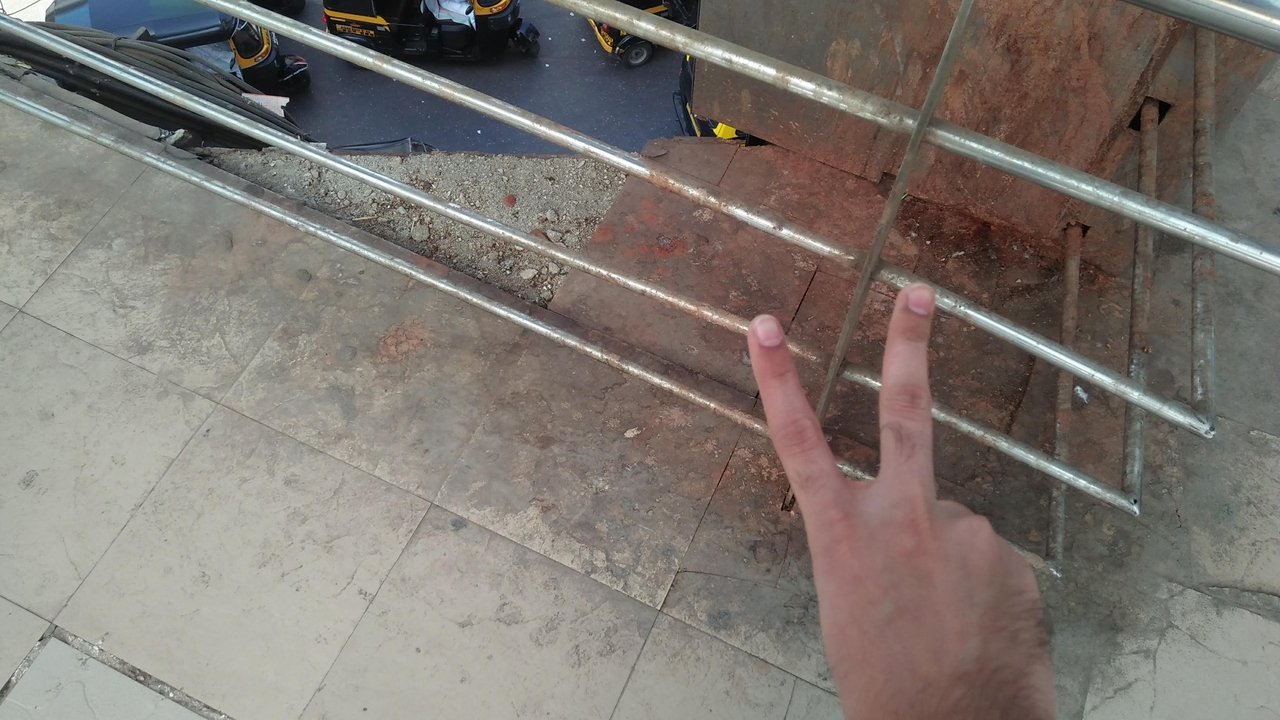fingertip: (740, 308, 798, 370), (892, 276, 946, 332)
